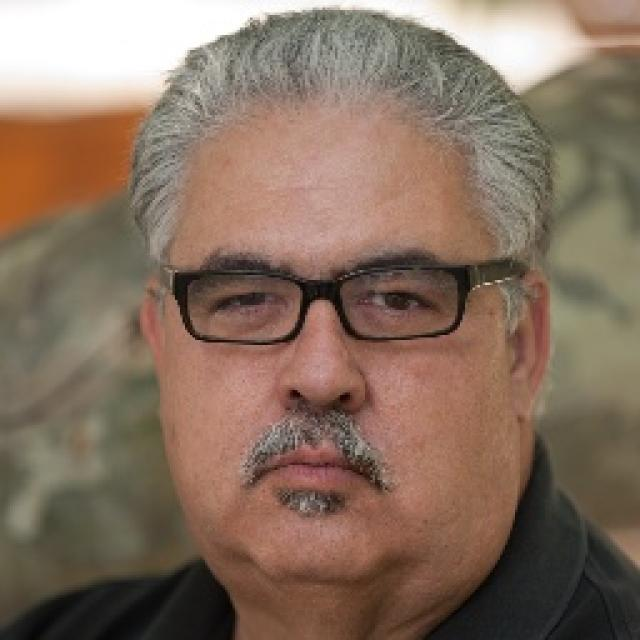earlobe: (505, 269, 555, 427), (139, 277, 168, 422)
